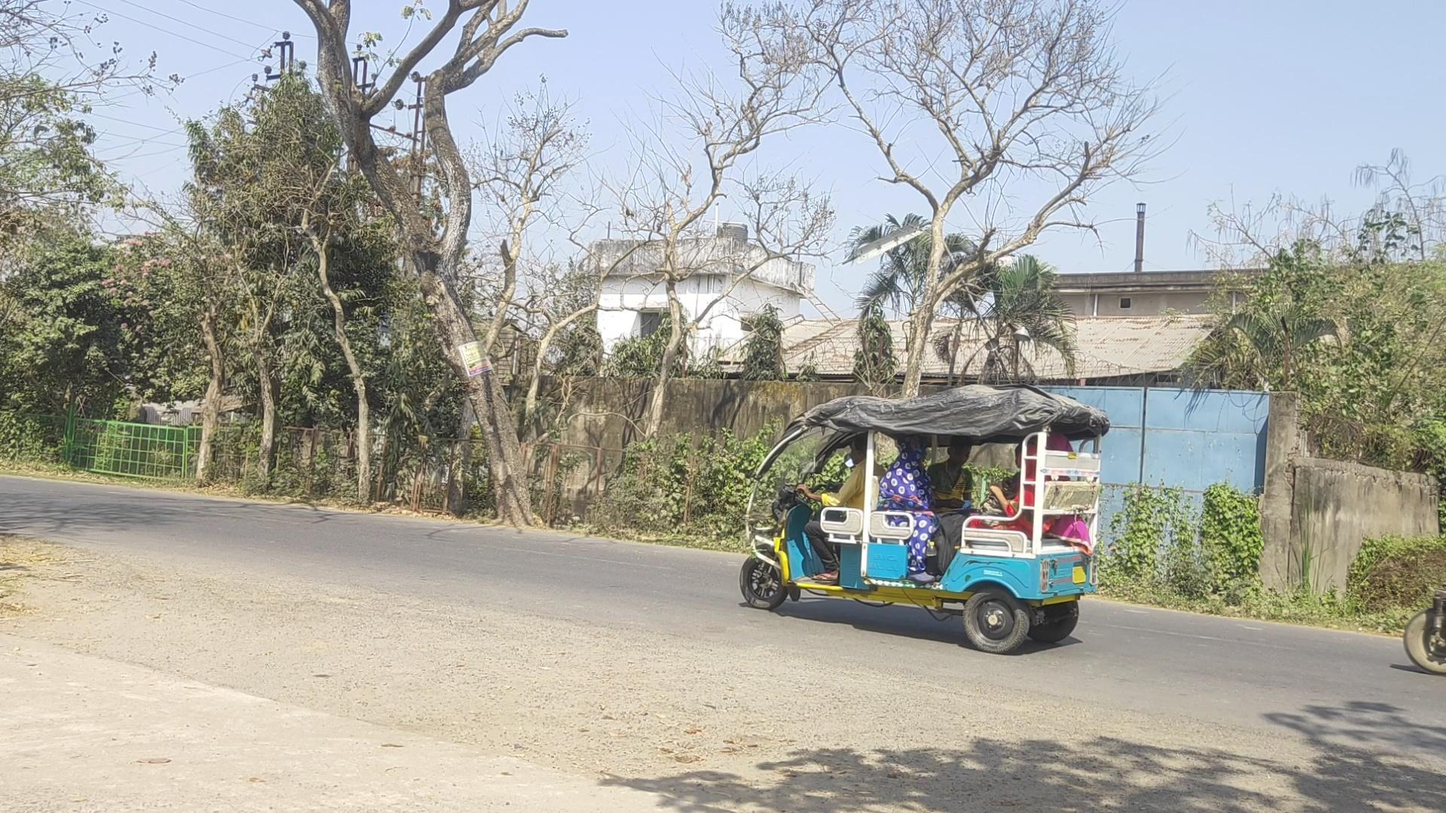Auto: (739, 382, 1109, 655)
